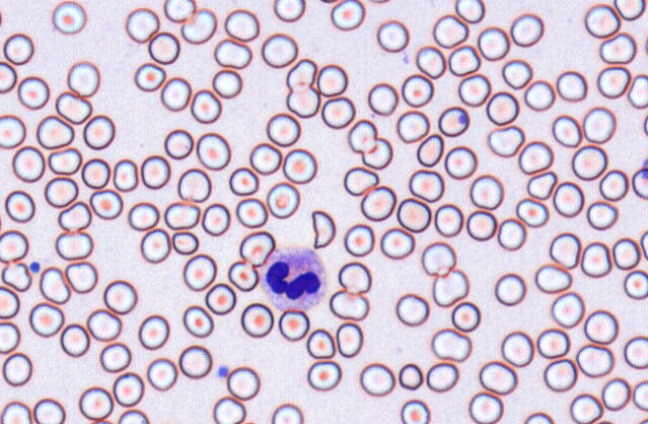GRAN: (261, 242, 331, 313)
PLT: (28, 260, 42, 274), (216, 366, 230, 379)
RBC: (431, 327, 471, 362), (478, 360, 517, 395), (180, 8, 217, 44), (261, 32, 298, 68), (36, 114, 74, 149), (360, 185, 396, 221), (239, 230, 275, 266), (571, 144, 607, 180), (182, 253, 216, 291), (575, 343, 613, 377), (196, 132, 230, 170), (584, 3, 620, 38), (11, 145, 45, 182), (550, 291, 584, 328), (266, 181, 300, 218), (66, 60, 100, 97), (582, 106, 616, 143), (213, 37, 252, 69), (329, 289, 369, 320), (396, 197, 431, 232), (421, 241, 456, 276), (29, 302, 64, 337), (282, 148, 317, 183), (583, 309, 618, 344), (359, 362, 395, 396), (408, 168, 444, 202), (55, 90, 91, 124), (125, 7, 159, 43), (432, 14, 468, 48), (487, 124, 524, 157), (500, 330, 533, 367), (469, 174, 503, 209), (78, 386, 113, 420), (518, 140, 553, 174), (103, 279, 137, 314), (51, 0, 86, 34), (599, 32, 636, 64), (534, 262, 572, 293), (54, 230, 93, 260), (543, 358, 577, 392), (266, 112, 300, 146), (395, 292, 429, 326), (178, 344, 212, 378), (226, 366, 260, 400), (485, 91, 519, 125), (177, 168, 211, 202), (510, 13, 544, 47), (86, 308, 121, 341), (240, 302, 273, 337), (224, 8, 259, 41), (552, 181, 584, 217), (337, 261, 371, 294), (596, 65, 630, 98), (396, 109, 429, 143), (444, 145, 477, 179), (468, 391, 503, 423), (83, 114, 115, 149), (580, 241, 611, 277), (549, 232, 580, 268), (376, 19, 409, 52), (65, 260, 98, 293), (457, 73, 490, 106), (249, 142, 282, 175), (286, 86, 320, 118), (57, 200, 91, 232), (380, 227, 414, 259), (321, 96, 355, 128), (112, 372, 144, 406), (17, 75, 49, 109), (477, 26, 509, 60), (401, 73, 433, 107), (306, 360, 341, 391), (138, 314, 169, 349), (160, 76, 191, 111), (190, 88, 221, 123), (140, 227, 170, 263), (494, 272, 526, 305), (148, 31, 180, 64), (44, 176, 78, 207), (59, 323, 90, 357), (146, 357, 177, 391), (89, 188, 123, 219), (347, 118, 377, 153), (343, 166, 378, 196), (140, 154, 170, 189), (330, 0, 365, 30), (163, 201, 200, 229), (523, 79, 555, 111), (343, 223, 374, 256), (4, 189, 35, 222), (361, 136, 392, 169), (205, 282, 236, 315), (182, 304, 213, 337), (3, 32, 34, 65), (316, 63, 347, 96), (536, 327, 569, 358), (551, 114, 582, 147), (367, 82, 398, 115), (2, 352, 32, 386), (569, 393, 603, 423), (437, 105, 469, 136), (278, 309, 309, 341), (466, 209, 497, 241), (426, 361, 458, 392), (235, 197, 267, 228), (448, 45, 480, 76), (415, 45, 445, 78), (515, 197, 548, 227), (201, 202, 230, 236), (434, 203, 463, 237), (335, 322, 363, 357), (47, 147, 82, 175), (556, 70, 587, 101), (227, 260, 258, 291), (501, 58, 532, 89), (598, 169, 628, 201), (99, 342, 131, 372), (586, 200, 618, 230), (497, 217, 526, 250), (601, 377, 630, 410), (416, 133, 444, 167), (163, 128, 193, 159), (81, 157, 110, 189), (127, 201, 159, 230), (0, 229, 28, 262), (212, 396, 246, 423), (228, 166, 258, 196), (212, 68, 242, 98), (451, 301, 480, 332), (306, 328, 335, 359), (134, 62, 165, 91), (612, 237, 640, 269), (112, 158, 138, 191), (0, 114, 25, 148), (33, 397, 65, 423), (623, 336, 647, 369), (623, 269, 647, 299), (400, 399, 430, 423), (0, 400, 31, 423), (163, 0, 195, 22), (273, 0, 305, 22), (398, 362, 423, 390), (627, 73, 647, 108), (171, 230, 198, 255), (455, 0, 484, 23), (0, 320, 20, 353), (613, 0, 645, 20), (271, 403, 303, 423), (0, 285, 19, 318), (0, 60, 17, 93), (631, 167, 647, 199), (632, 380, 647, 411), (117, 409, 149, 423), (523, 411, 554, 423), (640, 230, 647, 260), (90, 419, 114, 424), (643, 114, 648, 136), (368, 0, 390, 4), (644, 34, 648, 55), (595, 419, 615, 423), (319, 0, 338, 3), (638, 417, 647, 423)
Schistocyte: (432, 268, 471, 308), (310, 209, 339, 249), (40, 267, 71, 304), (525, 167, 558, 201), (286, 58, 318, 88), (4, 262, 31, 291)
